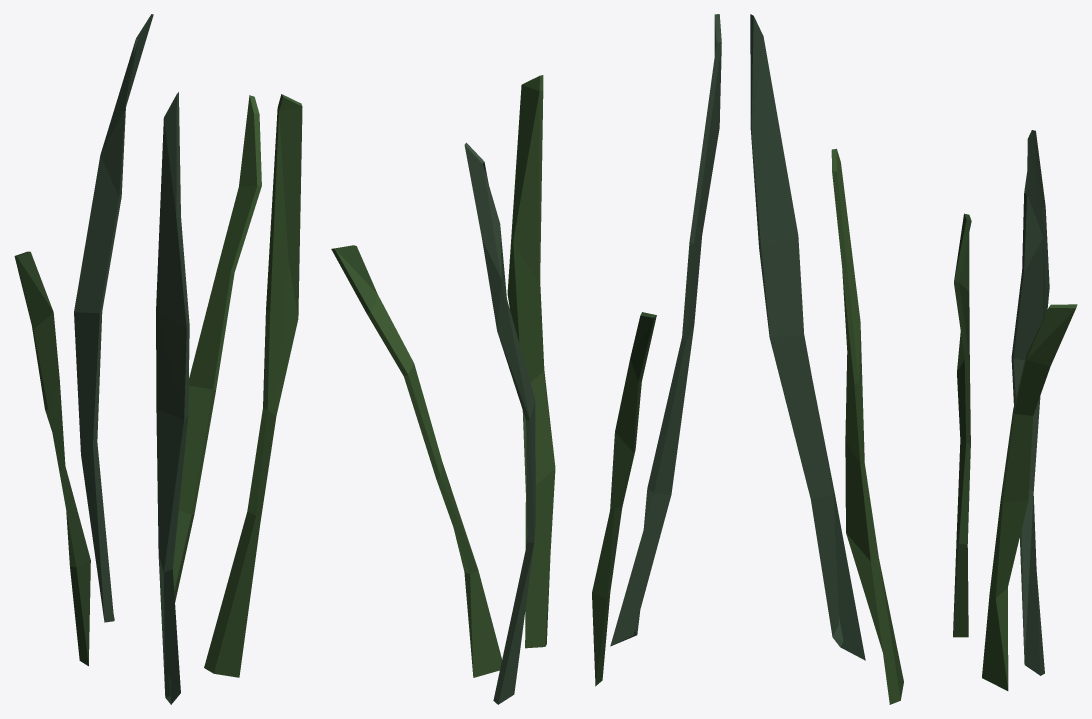
Rendered from Grass_05.fbx.
The picture shows the model from 3 angles, left to right: view 1: azimuth 30°, elevation 25°; view 2: azimuth 150°, elevation 25°; view 3: azimuth 270°, elevation 25°; orthographic projection. The views are drawn at different scales.
Parts seen in each view (by area): view 1: Grass_05; view 2: Grass_05; view 3: Grass_05.
Boxes of the visible parts, x1,y1,x2,y2 form: Grass_05: (14, 14, 302, 704); Grass_05: (331, 14, 721, 704); Grass_05: (750, 14, 1077, 704).
Bounding box in the file's own units: 54.7 × 118 × 55.76.
